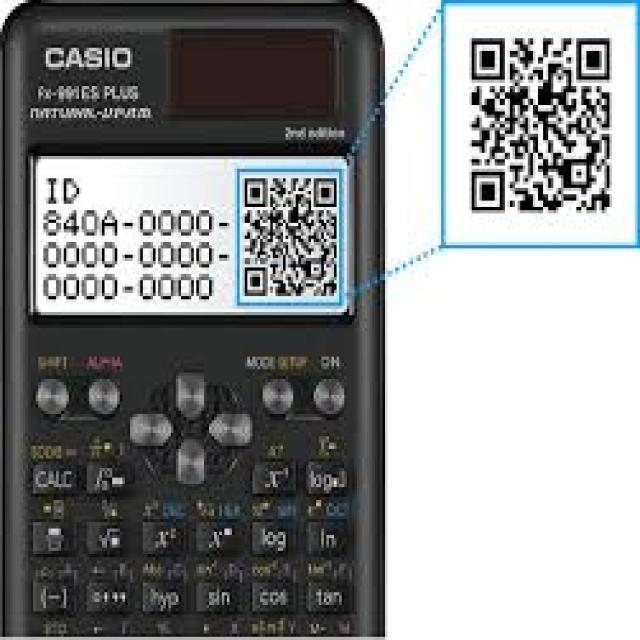Calculator: (0, 6, 393, 640)
